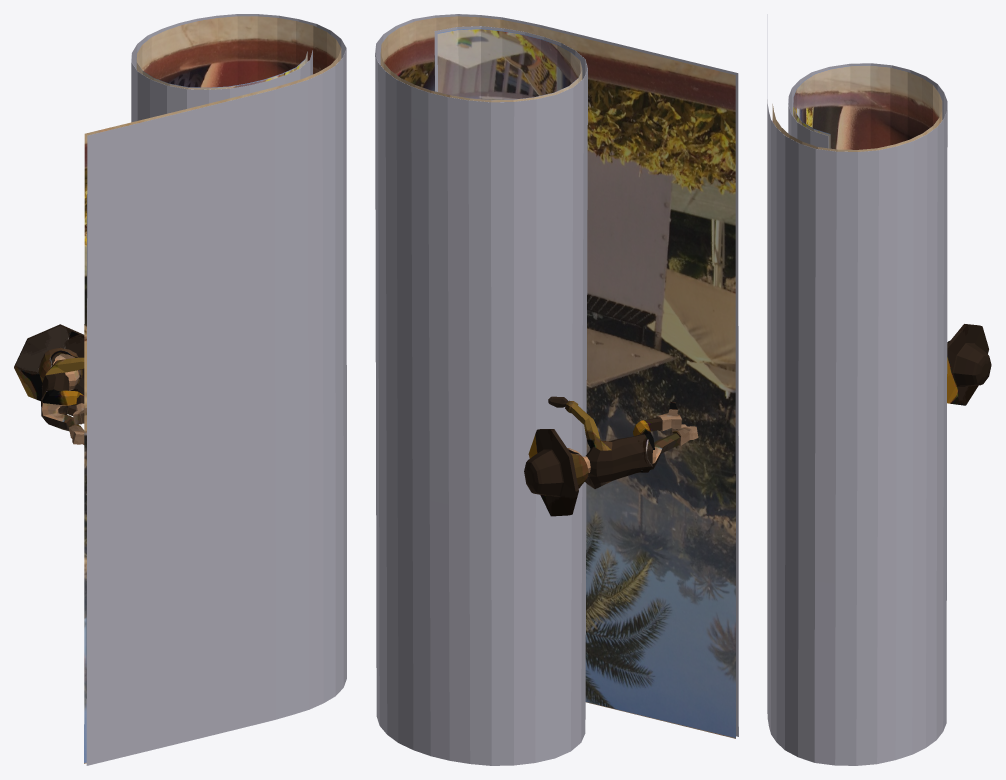
The model's file is start_file2_000029.obj.
3 renders of one model, left to right at view 1: azimuth 30°, elevation 25°; view 2: azimuth 150°, elevation 25°; view 3: azimuth 270°, elevation 25°, orthographic. The views are drawn at different scales.
Parts seen in each view (by area): view 1: Cube_Cube.001, Character_Cube; view 2: Cube_Cube.001, Character_Cube; view 3: Cube_Cube.001, Character_Cube.
Part boxes in pixels (x1,y1,x2,y2): Cube_Cube.001: (84,14,346,765); Character_Cube: (14,324,84,444); Cube_Cube.001: (375,14,738,765); Character_Cube: (524,396,698,516); Cube_Cube.001: (767,14,947,765); Character_Cube: (947,324,991,405).
Size of the model in its own units: 0.7367 by 1.52 by 0.5044.
2 materials, 2 textured.
